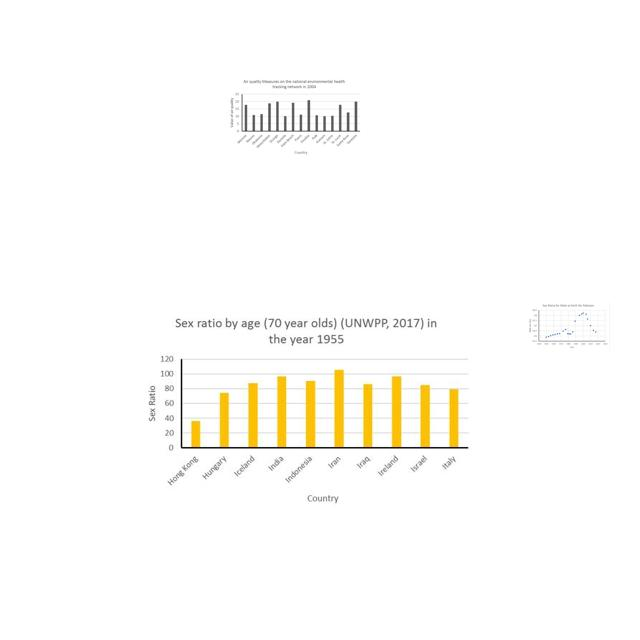Graph: (137, 312, 473, 506), (226, 77, 362, 159), (526, 302, 610, 351)
